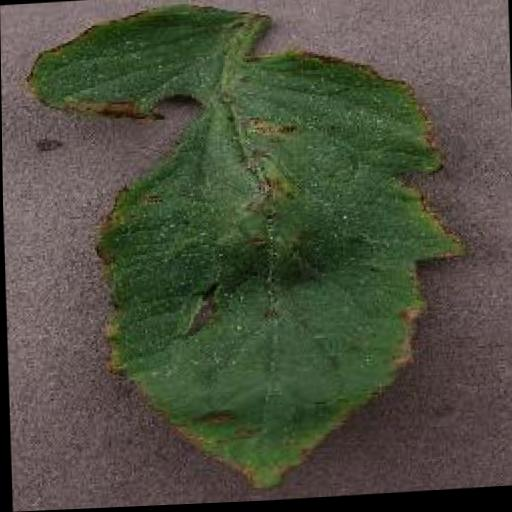Bacterial Spot: (24, 0, 469, 510)
